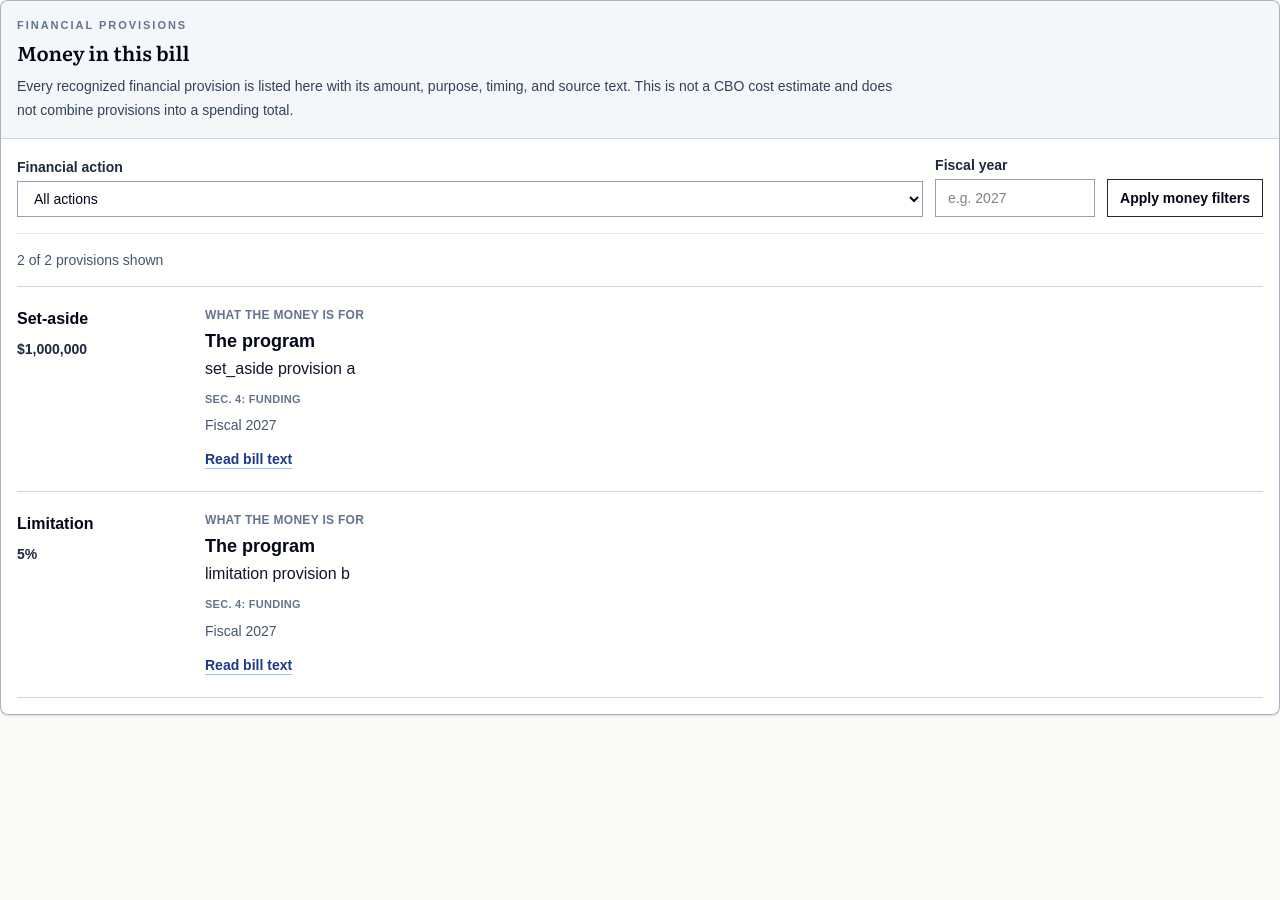
it: FinancialLedger › restores all results when All actions is applied and reports completion
This screenshot has width=1280, height=900.
Expected: the text "2 of 2 provisions shown" is shown, [17,252,163,268]
Expected: the text "5%" is shown, [17,546,37,562]
Select "Set-aside" in the dropdown labelled "Financial action": (470, 198) [17,180,923,216]
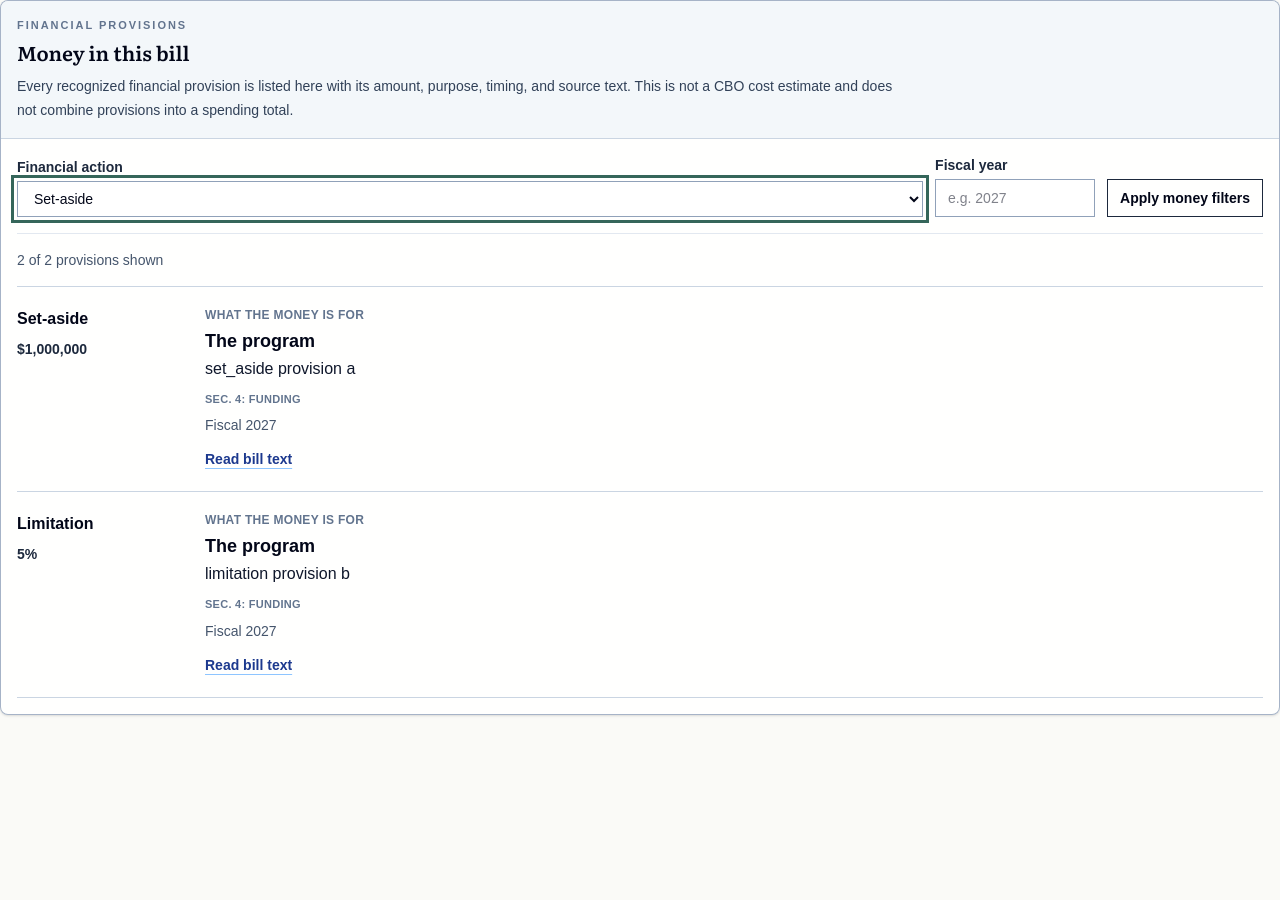
Click the button "Apply money filters": (1185, 198) [1107,178,1263,216]
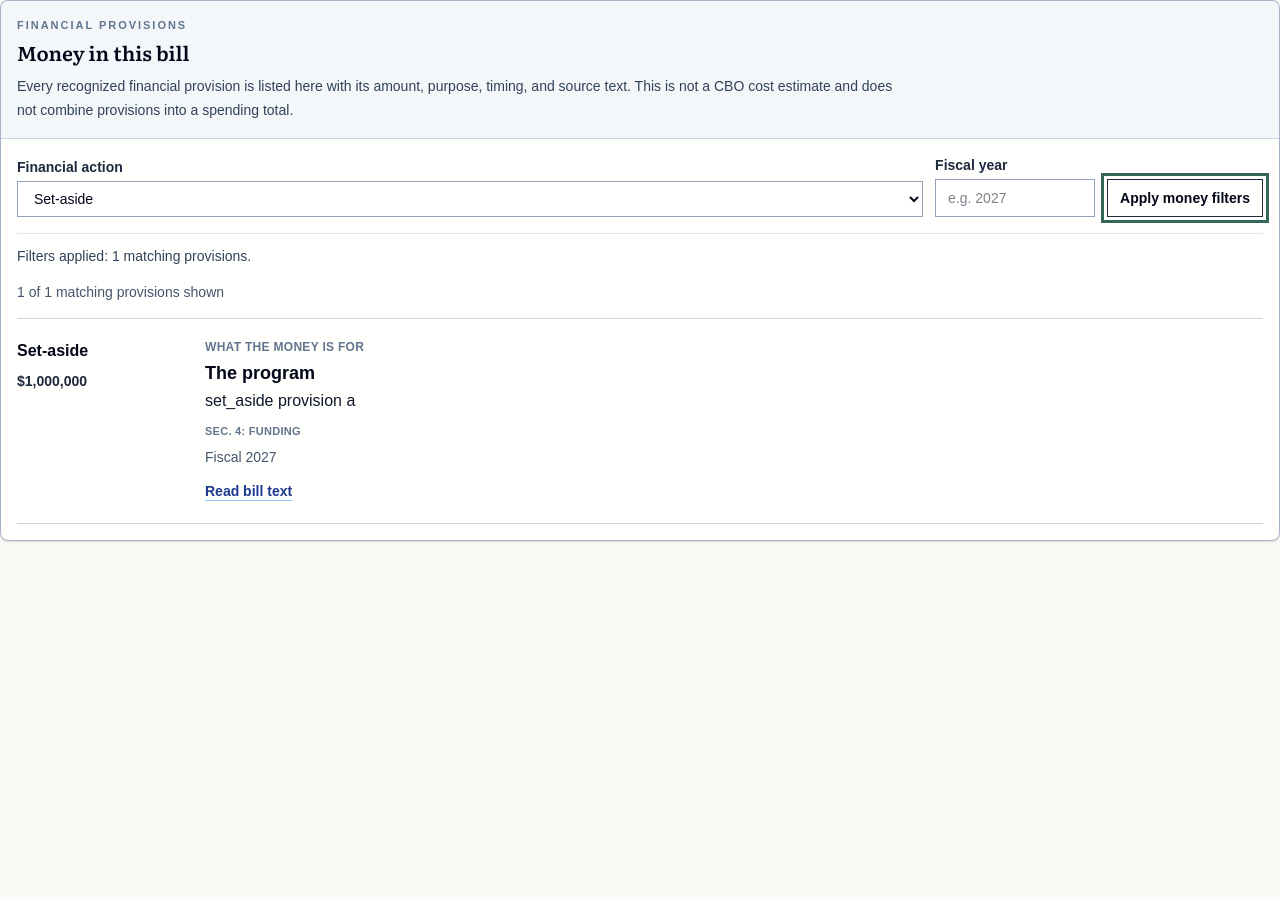
Expected: the text "1 of 1 matching provisions shown" is shown, [17,284,224,300]
Select "All actions" in the dropdown labelled "Financial action": (470, 198) [17,180,923,216]
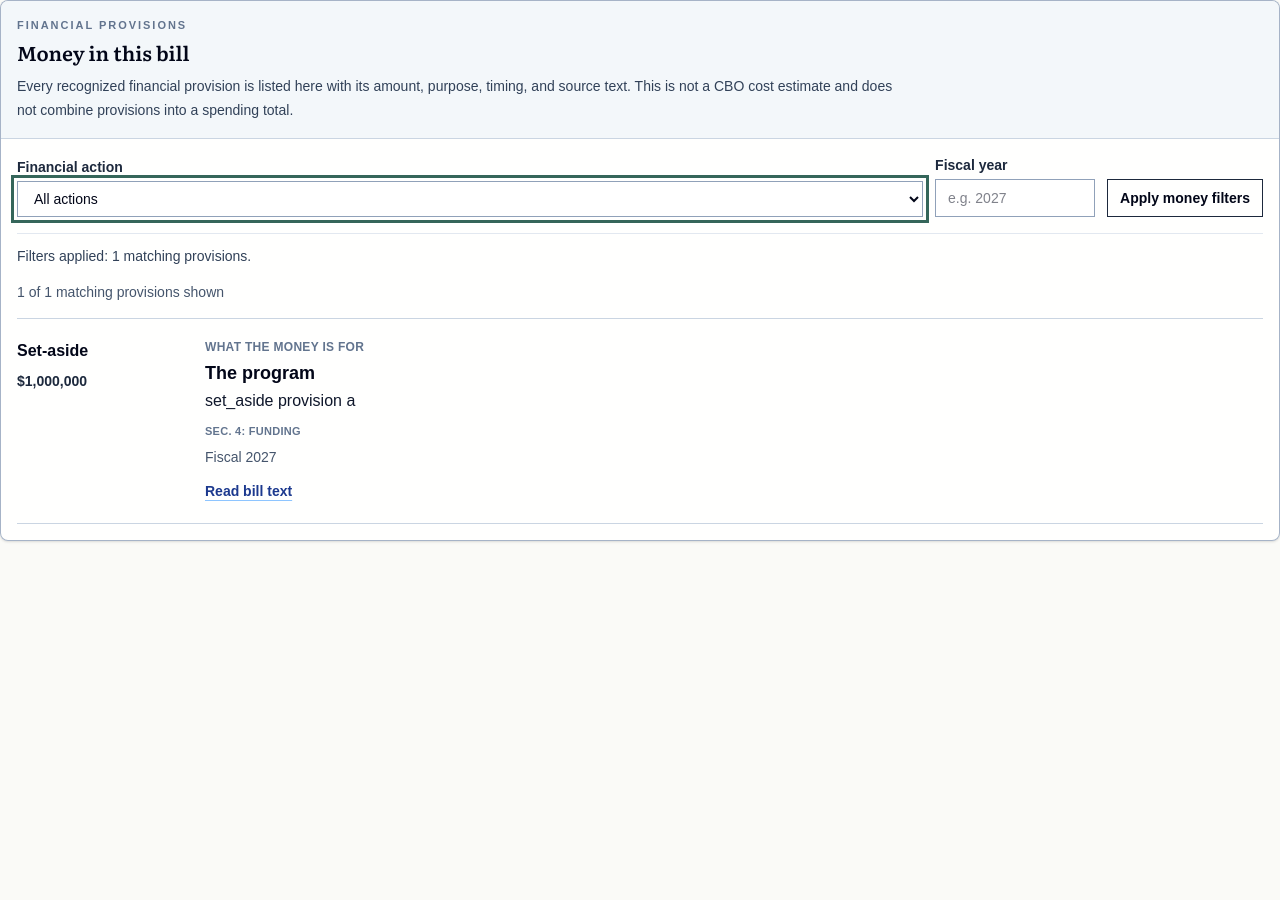
Click the button "Apply money filters": (1185, 198) [1107,178,1263,216]
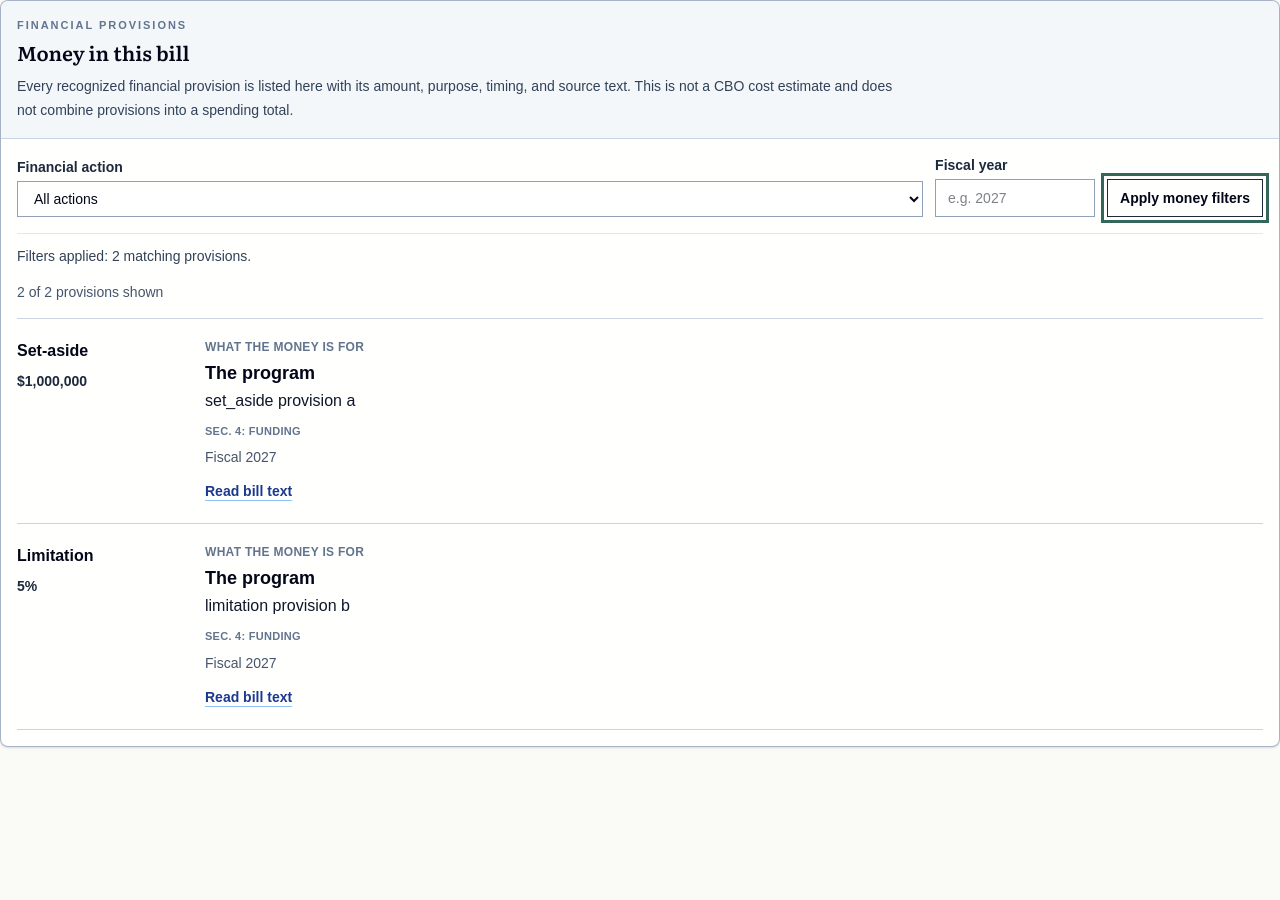
Expected: the text "2 of 2 provisions shown" is shown, [17,284,163,300]
Expected: the message shows "2 matching provisions", [17,248,251,264]
